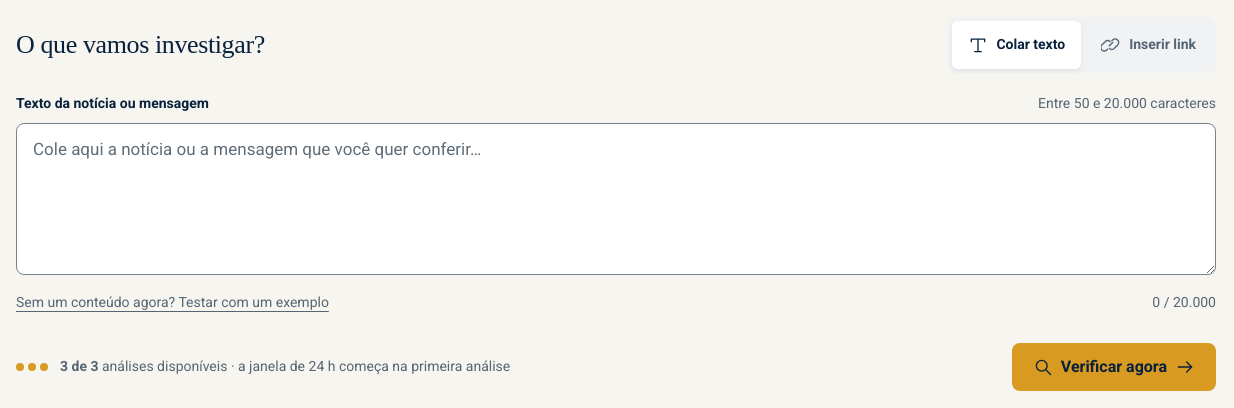
texto de exemplo › não aparece na aba de link
This screenshot has width=1234, height=408.
Click the tab "Inserir link".
click(1149, 45)  # box [1085,21,1212,69]
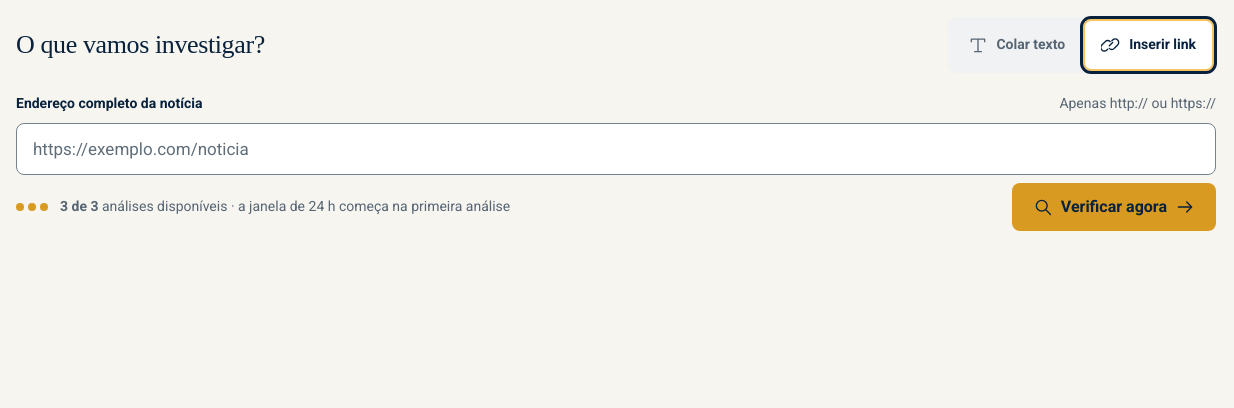
Check: the button "Testar com um exemplo" is gone
